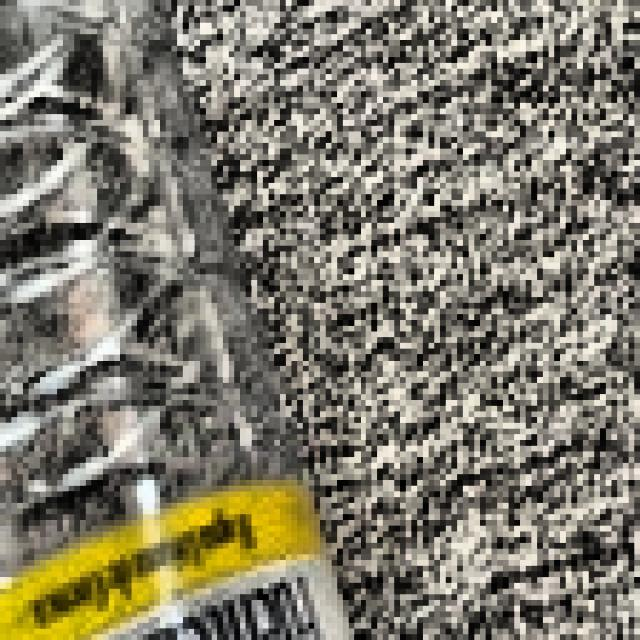plastic: (0, 0, 429, 640)
